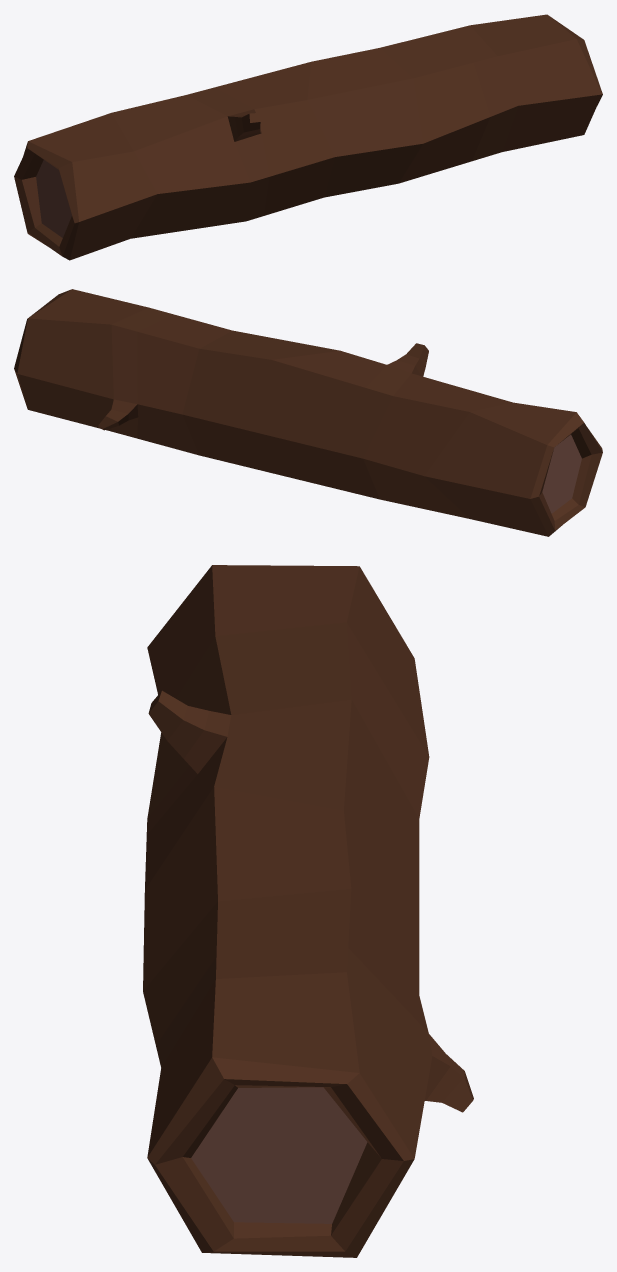
File: log.fbx
The picture shows the model from 3 angles, top to bottom: view 1: azimuth 30°, elevation 25°; view 2: azimuth 150°, elevation 25°; view 3: azimuth 270°, elevation 25°; orthographic projection. The views are drawn at different scales.
Parts seen in each view (by area): view 1: Log; view 2: Log; view 3: Log.
Boxes of the visible parts, <box> form: Log: <box>14,14,602,260</box>; Log: <box>14,289,602,536</box>; Log: <box>143,565,473,1257</box>.
Bounding box in the file's own units: 222 × 48.06 × 60.3.
